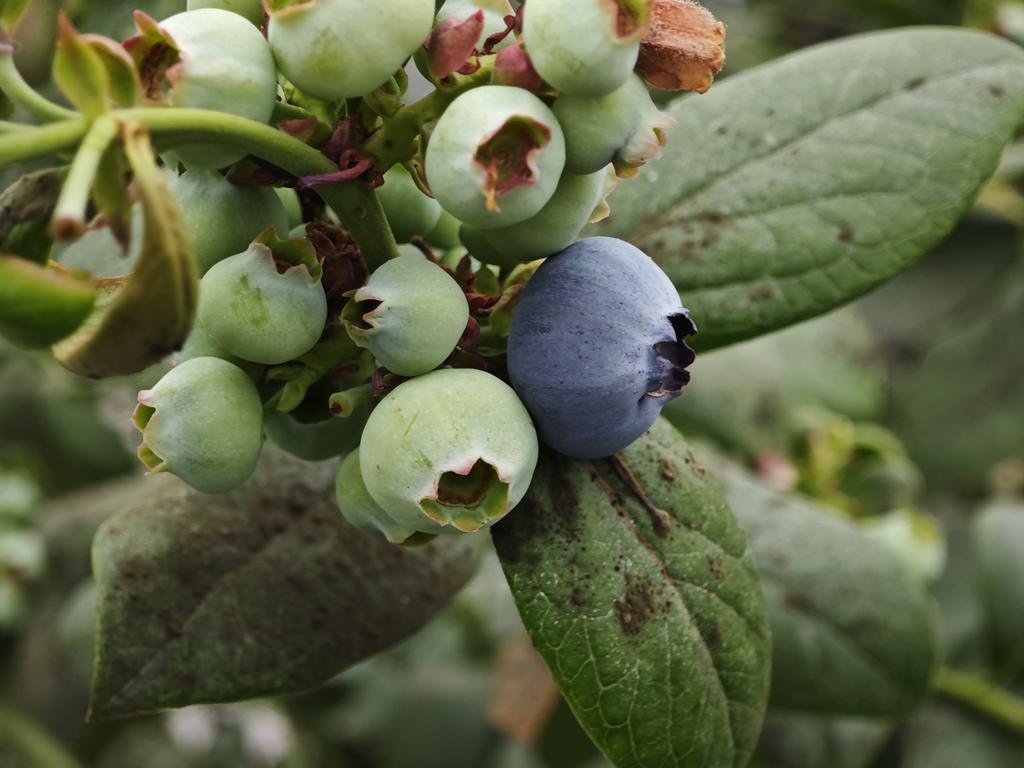RipeBlueBerry: (508, 230, 693, 461)
UnripeBlueBerry: (358, 363, 542, 539), (424, 79, 569, 230), (127, 352, 267, 497)
